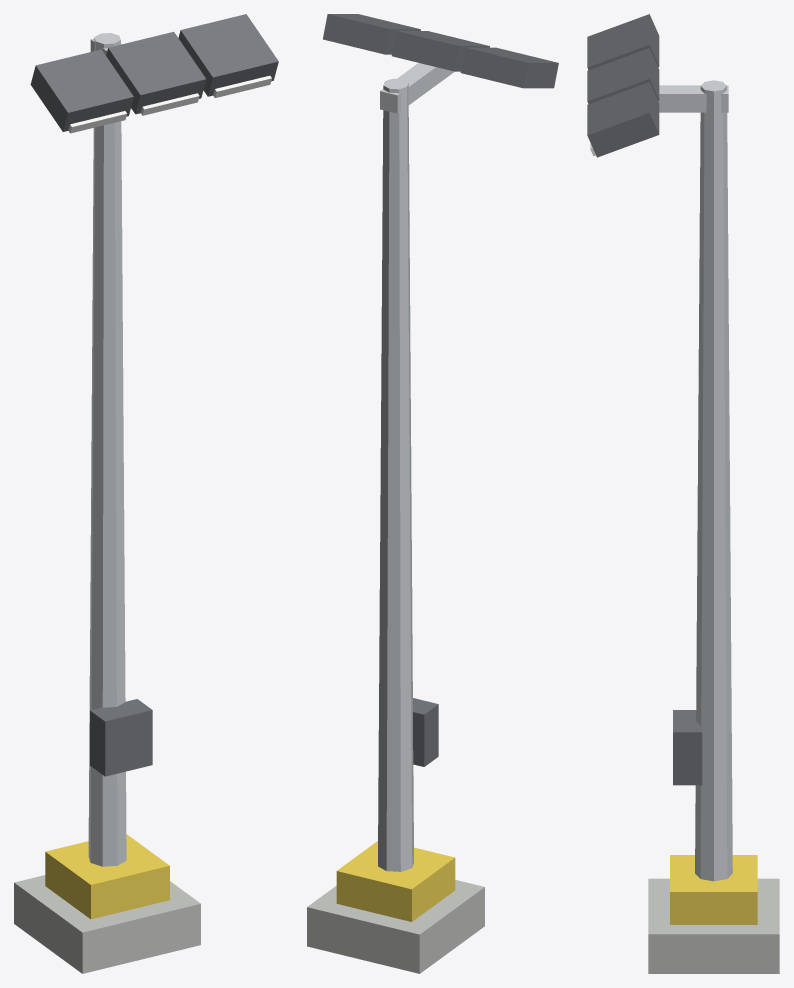
File: wind-and-solar-energy-farm-site-floodlight-3bf19f7a__34084.glb
3 views of the same model, side by side, from view 1: azimuth 30°, elevation 25°; view 2: azimuth 150°, elevation 25°; view 3: azimuth 270°, elevation 25° (orthographic). The views are drawn at different scales.
Parts seen in each view (by area): view 1: site-floodlight; view 2: site-floodlight; view 3: site-floodlight.
Boxes of the visible parts, box(x1,y1,x2,y2) form: site-floodlight: box(14, 14, 278, 973); site-floodlight: box(307, 14, 558, 973); site-floodlight: box(587, 14, 779, 973).
Size of the model in its own units: 1.6 by 6.67 by 1.32.
